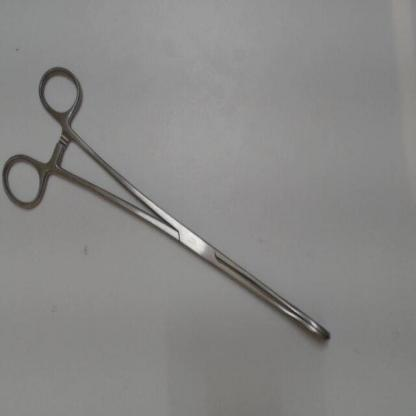Sponge Forceps: (0, 55, 336, 350)
